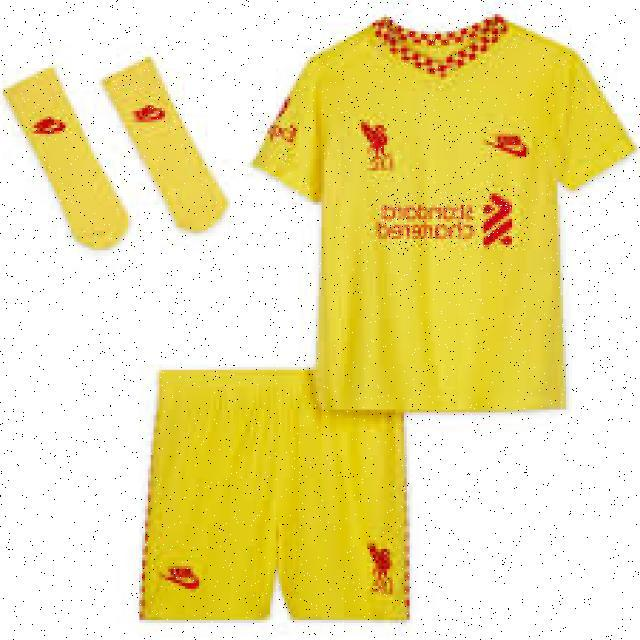Nike: (487, 127, 529, 157)
Standard Chartered: (374, 188, 514, 250)
